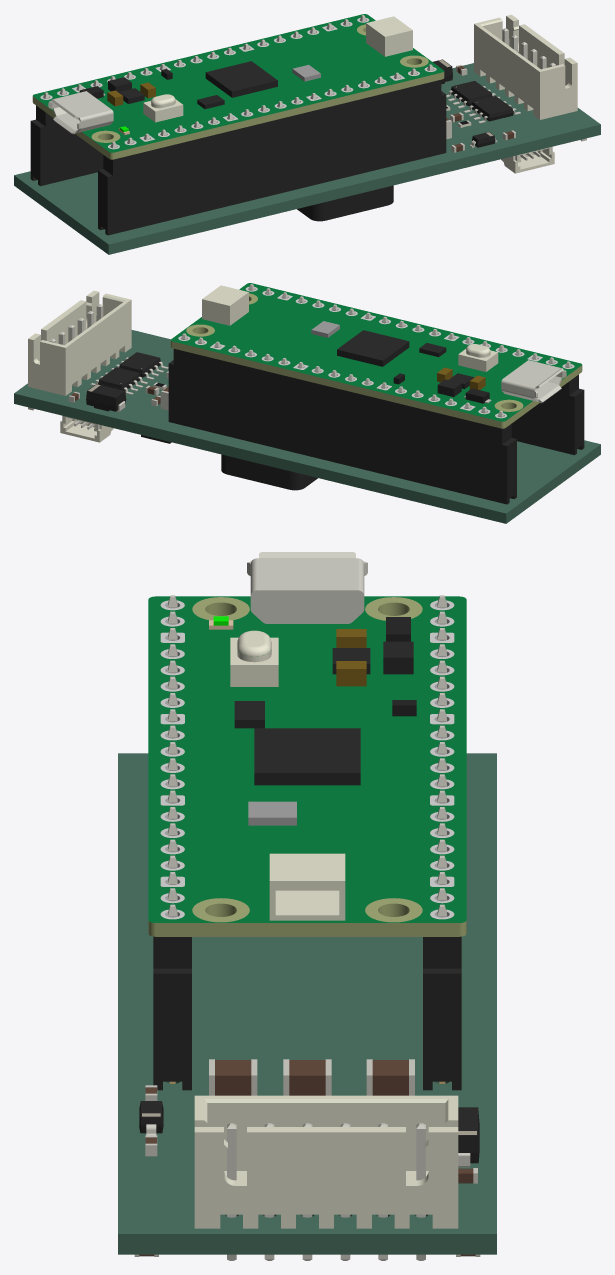
The model's file is pcb-board.glb.
3 renders of one model, top to bottom at view 1: azimuth 30°, elevation 25°; view 2: azimuth 150°, elevation 25°; view 3: azimuth 270°, elevation 25°, orthographic. The views are drawn at different scales.
Parts seen in each view (by area): view 1: part112, part108, board, part113, part27, part109, part53, part49, part21, part11; view 2: part112, part109, board, part113, part27, part108, part53, part17, part37, part11, part21; view 3: part112, board, part27, part113, part109, part108, part03, part07, part23, part17.
Boxes of the visible parts, x1,y1,x2,y2 form: part112: [32, 14, 444, 159]; part108: [98, 91, 446, 235]; board: [14, 63, 600, 254]; part113: [36, 15, 441, 175]; part27: [474, 14, 577, 119]; part109: [30, 119, 103, 186]; part53: [297, 185, 393, 221]; part49: [501, 146, 554, 173]; part21: [463, 96, 520, 123]; part11: [446, 81, 500, 108]; part112: [170, 283, 582, 428]; part109: [168, 360, 516, 504]; board: [14, 330, 600, 523]; part113: [173, 284, 578, 444]; part27: [28, 290, 131, 395]; part108: [511, 388, 584, 455]; part53: [221, 454, 317, 490]; part17: [86, 384, 126, 411]; part37: [60, 415, 113, 442]; part11: [90, 367, 147, 394]; part21: [111, 352, 168, 379]; part112: [148, 552, 466, 936]; board: [118, 753, 496, 1254]; part27: [194, 1095, 458, 1260]; part113: [153, 595, 461, 968]; part109: [423, 968, 461, 1090]; part108: [153, 968, 191, 1090]; part03: [283, 1059, 331, 1095]; part07: [366, 1059, 414, 1095]; part23: [209, 1059, 257, 1095]; part17: [458, 1107, 479, 1167].
Bounding box in the file's own units: 75 × 22.62 × 25.
